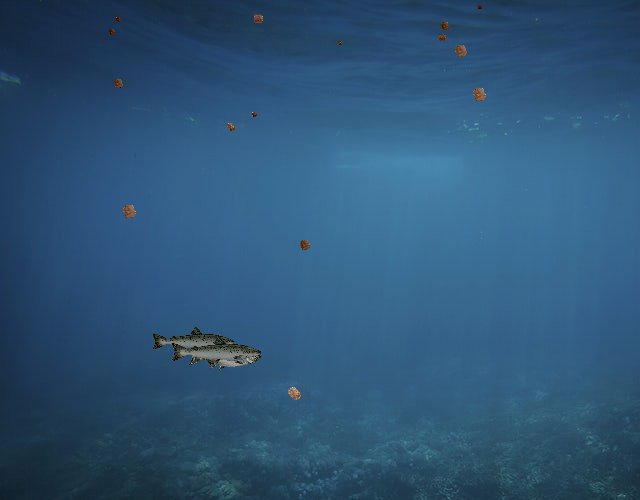Fish: (169, 335, 263, 369), (150, 325, 236, 356), (189, 344, 262, 371)
Pellet: (280, 379, 308, 407), (115, 197, 143, 225), (448, 38, 473, 64), (294, 234, 316, 256), (222, 118, 240, 136), (248, 109, 260, 121)
